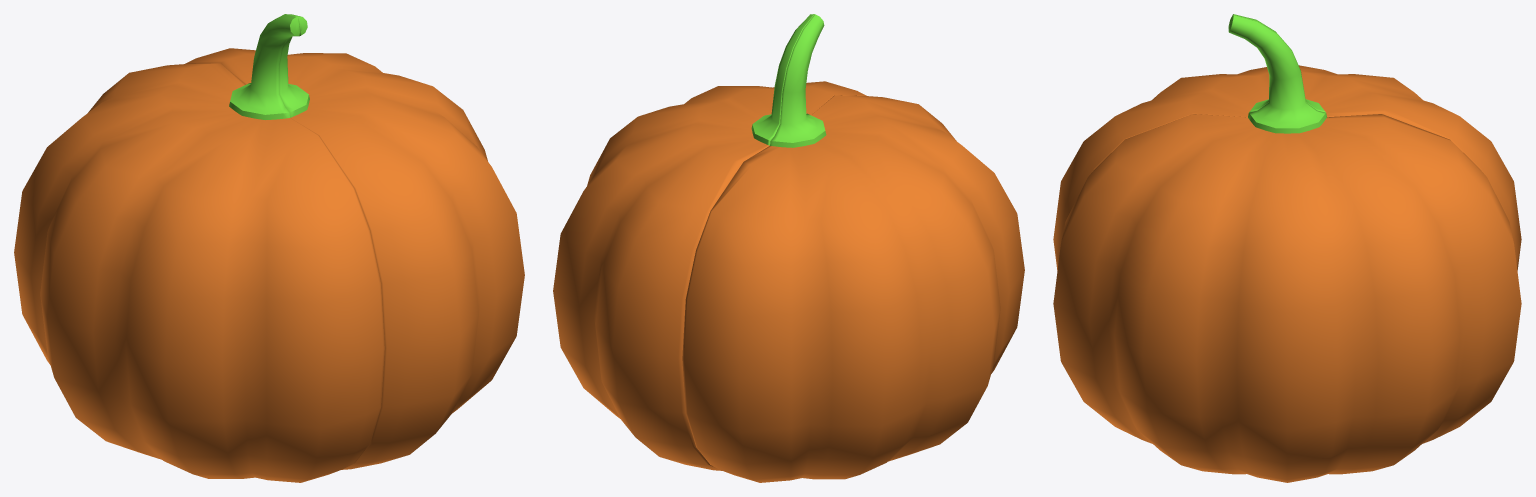
File: SM_Pumpkin_01a.fbx
The picture shows the model from 3 angles, left to right: view 1: azimuth 30°, elevation 25°; view 2: azimuth 150°, elevation 25°; view 3: azimuth 270°, elevation 25°; orthographic projection. The views are drawn at different scales.
Parts seen in each view (by area): view 1: Pumpkin_02, Pumpkin_01; view 2: Pumpkin_02, Pumpkin_01; view 3: Pumpkin_01, Pumpkin_02.
Boxes of the visible parts, bbox=[...] form: Pumpkin_02: bbox=[14, 14, 384, 482]; Pumpkin_01: bbox=[185, 14, 524, 469]; Pumpkin_02: bbox=[682, 14, 1024, 482]; Pumpkin_01: bbox=[553, 14, 866, 470]; Pumpkin_01: bbox=[1053, 15, 1521, 482]; Pumpkin_02: bbox=[1053, 14, 1521, 270].
Size of the model in its own units: 36.78 by 34.16 by 34.98.
